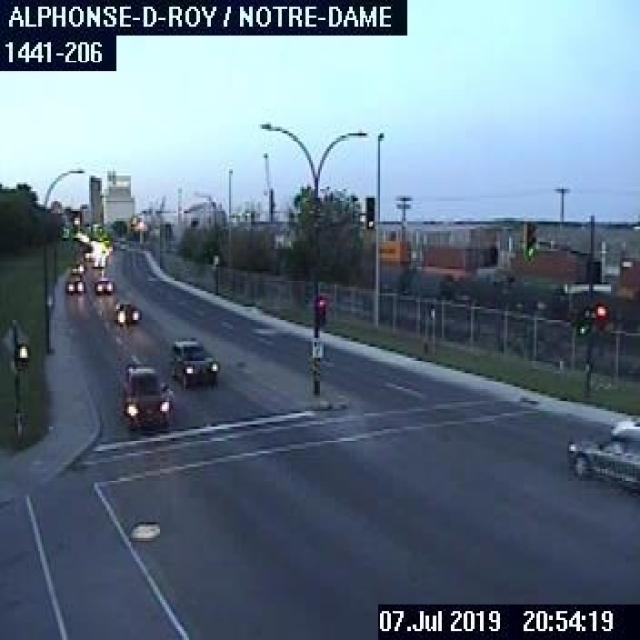vehicle: (566, 418, 638, 482), (114, 355, 173, 429), (166, 333, 218, 382), (111, 298, 140, 322), (66, 274, 86, 291), (94, 278, 114, 293), (91, 254, 107, 268), (67, 260, 84, 271)
